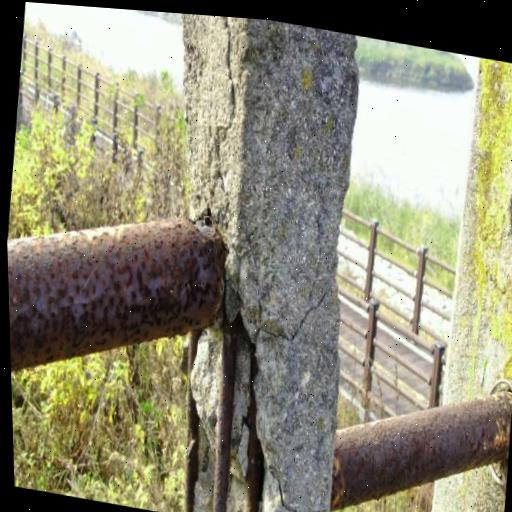exposed_rebar: (212, 314, 239, 512), (184, 330, 201, 512), (246, 353, 264, 512)
spalling: (185, 312, 264, 512)
